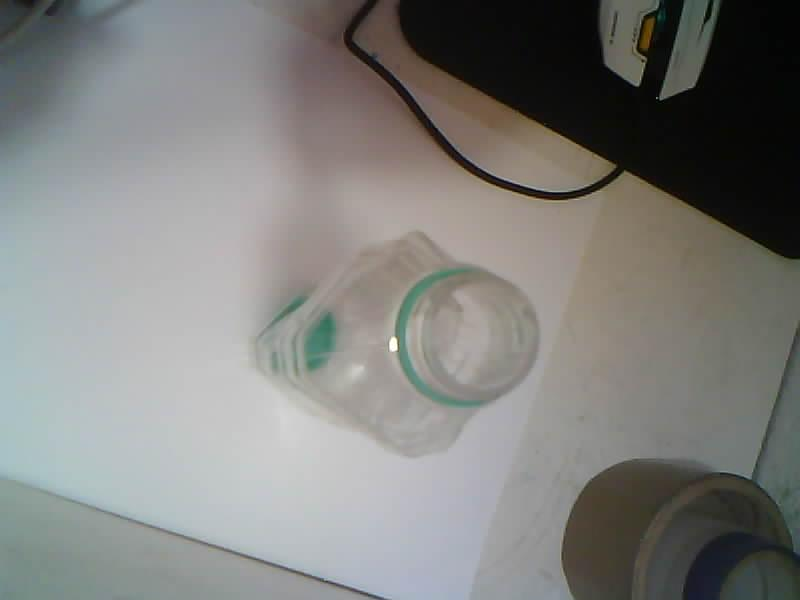non-biodegradable: (256, 233, 537, 456)
